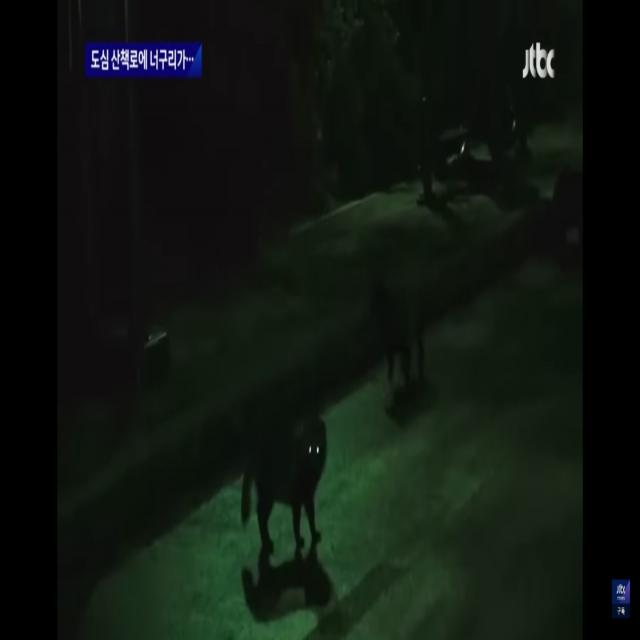racoon: (246, 389, 330, 566)
